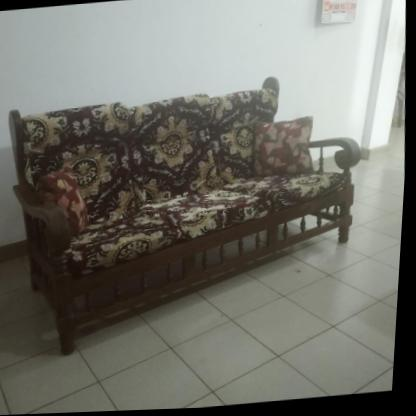Sofa: (0, 71, 377, 359)
